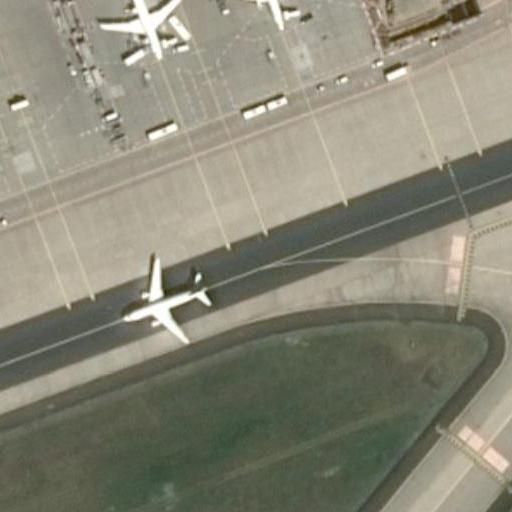Aircraft: (109, 251, 228, 353), (100, 0, 184, 74), (211, 0, 314, 28)
